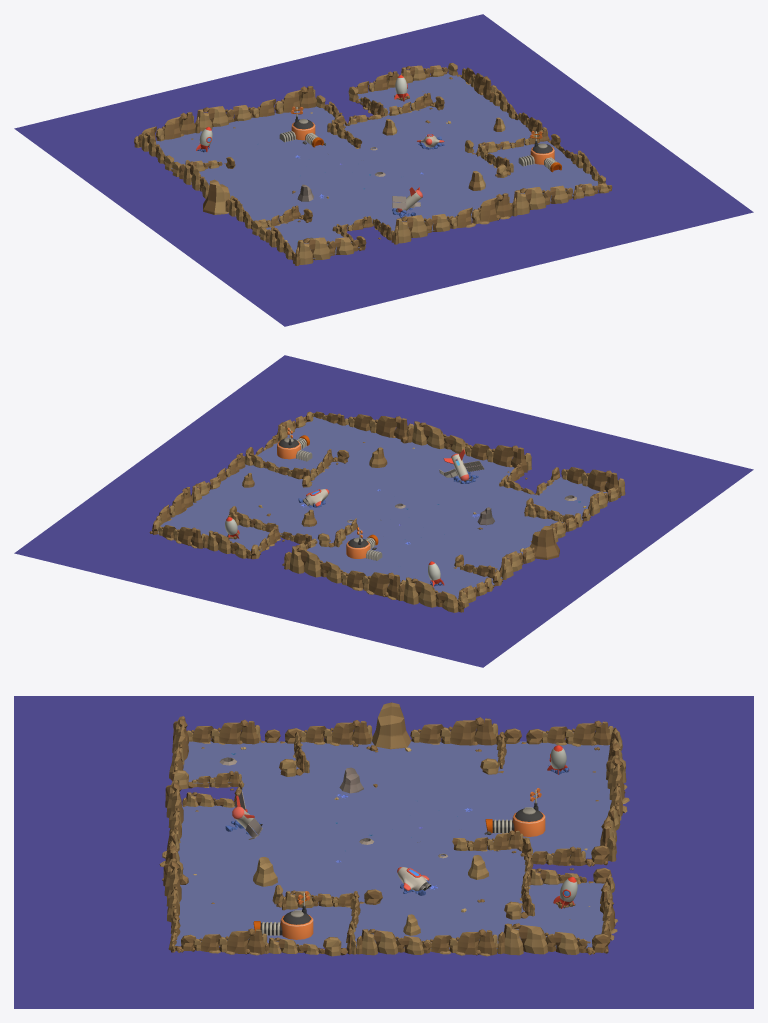
Rendered from EnvLV3.fbx.
The picture shows the model from 3 angles, top to bottom: view 1: azimuth 30°, elevation 25°; view 2: azimuth 150°, elevation 25°; view 3: azimuth 270°, elevation 25°; orthographic projection. The views are drawn at different scales.
Visible parts, largest first — view 1: Ground, Cube.001, Cube.002, Cylinder_1_2_001.001, Cylinder_1_2_001, Cylinder.009; view 2: Ground, Cube.001, Cube.002, Cylinder_1_2_001, Cylinder_1_2_001.001, Cylinder_3_2; view 3: Ground, Cube.001, Cube.002, Cylinder_1_2_001, Cylinder_1_2_001.001, Cylinder.009, Cube.003, Cylinder_3_2, Cylinder.001, Cube.004.
Boxes of the visible parts, x1,y1,x2,y2 form: Ground: (14,14,753,326); Cube.001: (134,63,612,265); Cube.002: (258,93,513,228); Cylinder_1_2_001.001: (518,131,561,172); Cylinder_1_2_001: (279,106,323,147); Cylinder.009: (196,75,409,151); Ground: (14,355,753,667); Cube.001: (149,411,625,612); Cube.002: (227,449,574,547); Cylinder_1_2_001: (346,527,382,560); Cylinder_1_2_001.001: (277,427,312,461); Cylinder_3_2: (439,449,484,482); Ground: (14,696,753,1008); Cube.001: (159,702,629,956); Cube.002: (272,732,534,919); Cylinder_1_2_001: (485,788,545,836); Cylinder_1_2_001.001: (253,891,313,939); Cylinder.009: (547,745,577,908); Cube.003: (403,855,488,935); Cylinder_3_2: (232,792,262,839); Cylinder.001: (397,867,431,890); Cube.004: (253,857,277,886).
Size of the model in its own units: 28461 by 2329 by 28461.
3 materials, 1 textured.
